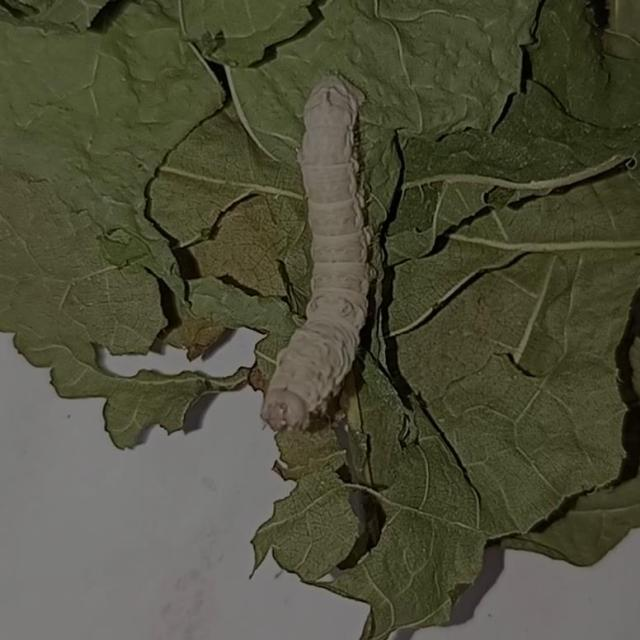Healthy: (222, 54, 492, 498)
